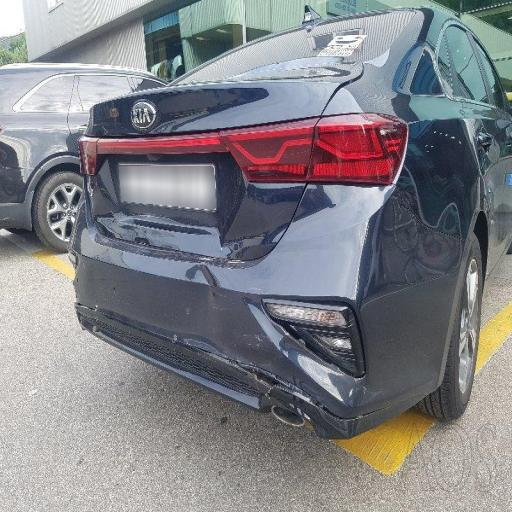broken: (258, 279, 392, 491)
dent: (66, 168, 248, 291)
